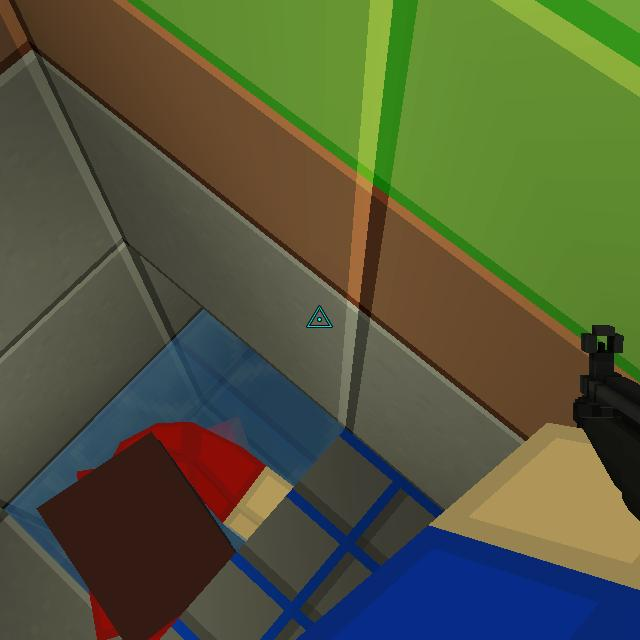enemy: (41, 366, 287, 640)
